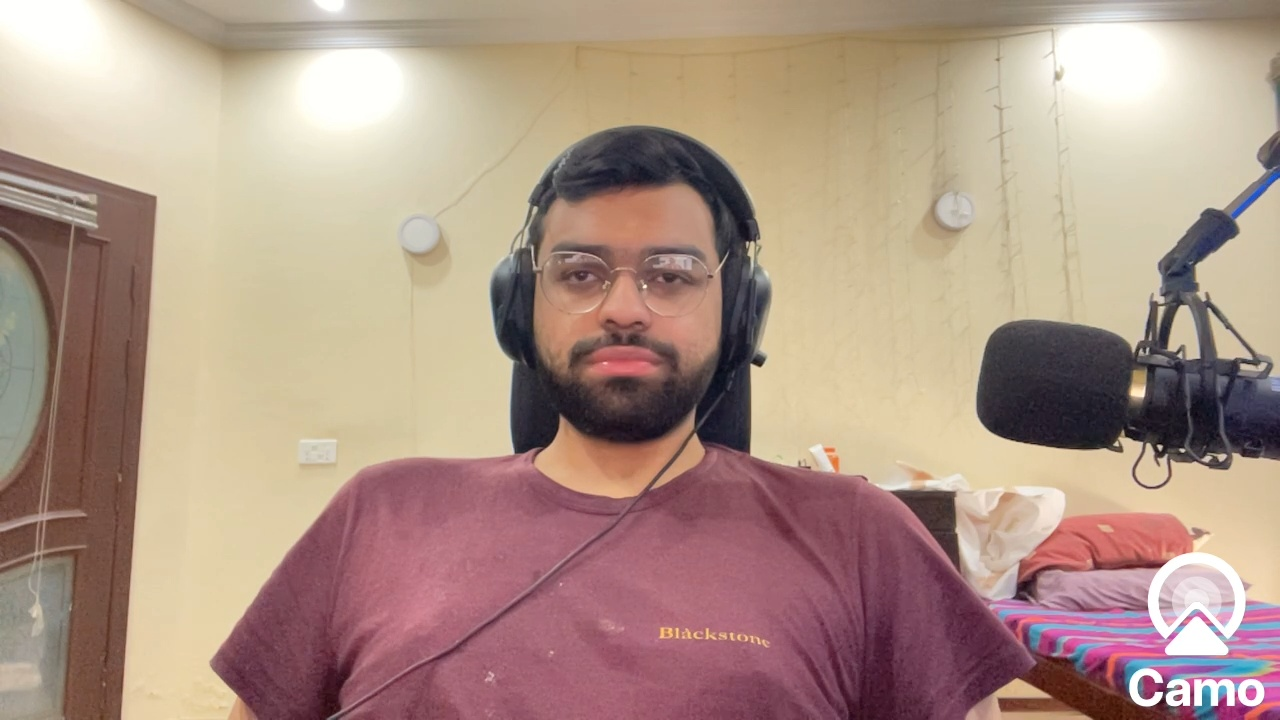neutral: (520, 175, 729, 443)
